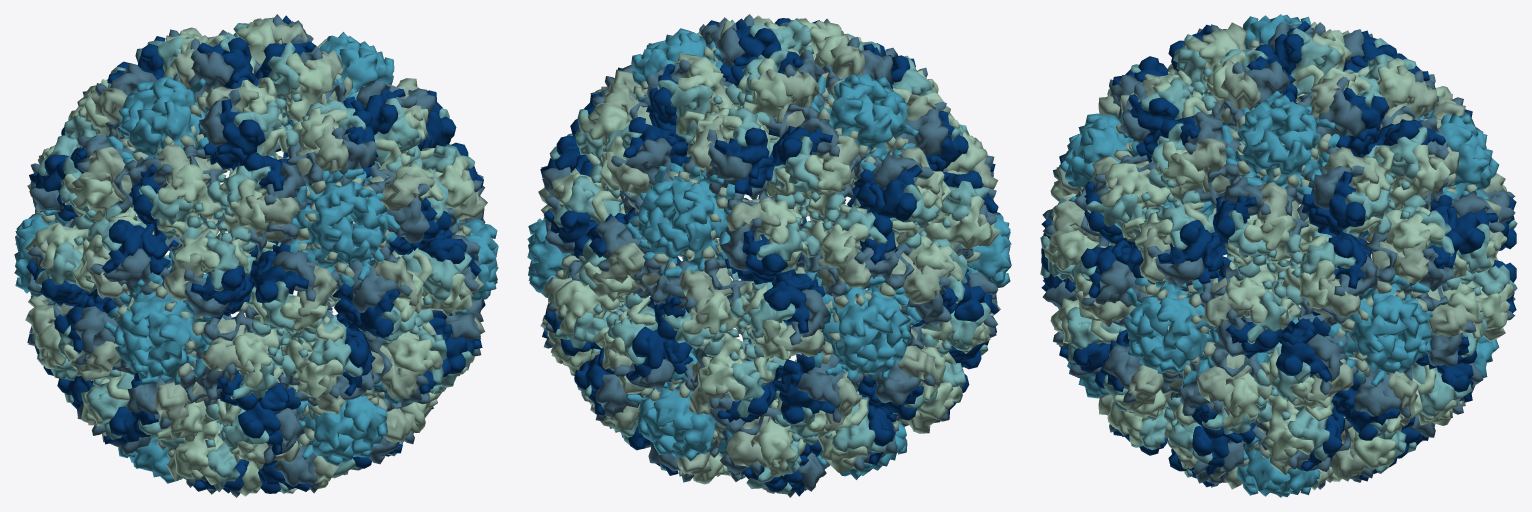
Rendered from 1SVAsize1-3color.glb.
The picture shows the model from 3 angles, left to right: view 1: azimuth 30°, elevation 25°; view 2: azimuth 150°, elevation 25°; view 3: azimuth 270°, elevation 25°; orthographic projection.
Bounding box in the file's own units: 494 × 494 × 494.
